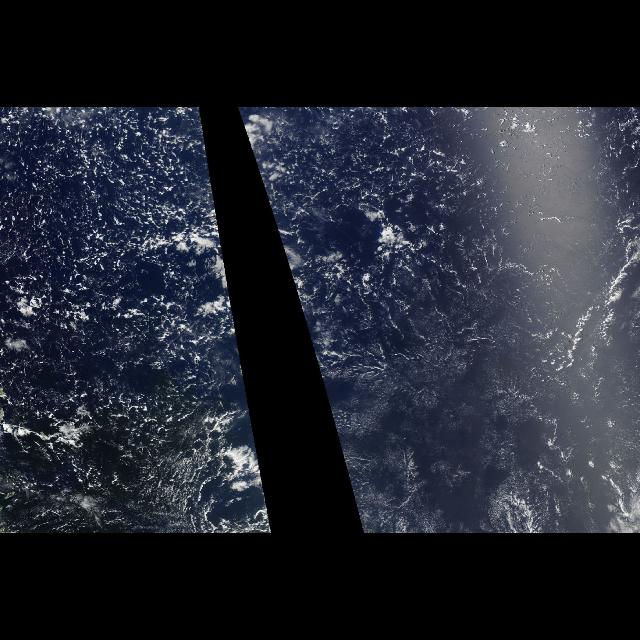Gravel: (1, 109, 242, 533), (270, 110, 500, 230)
Sugar: (328, 268, 640, 532)
